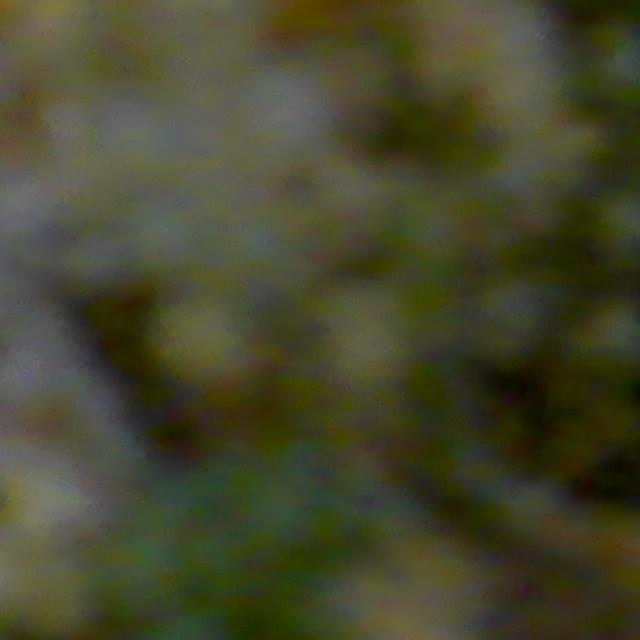SeaGrape: (473, 269, 553, 354), (17, 452, 94, 537), (250, 83, 324, 159), (579, 297, 640, 376), (135, 211, 197, 285), (588, 24, 640, 110), (0, 341, 55, 418), (32, 544, 79, 629), (0, 172, 46, 239)
